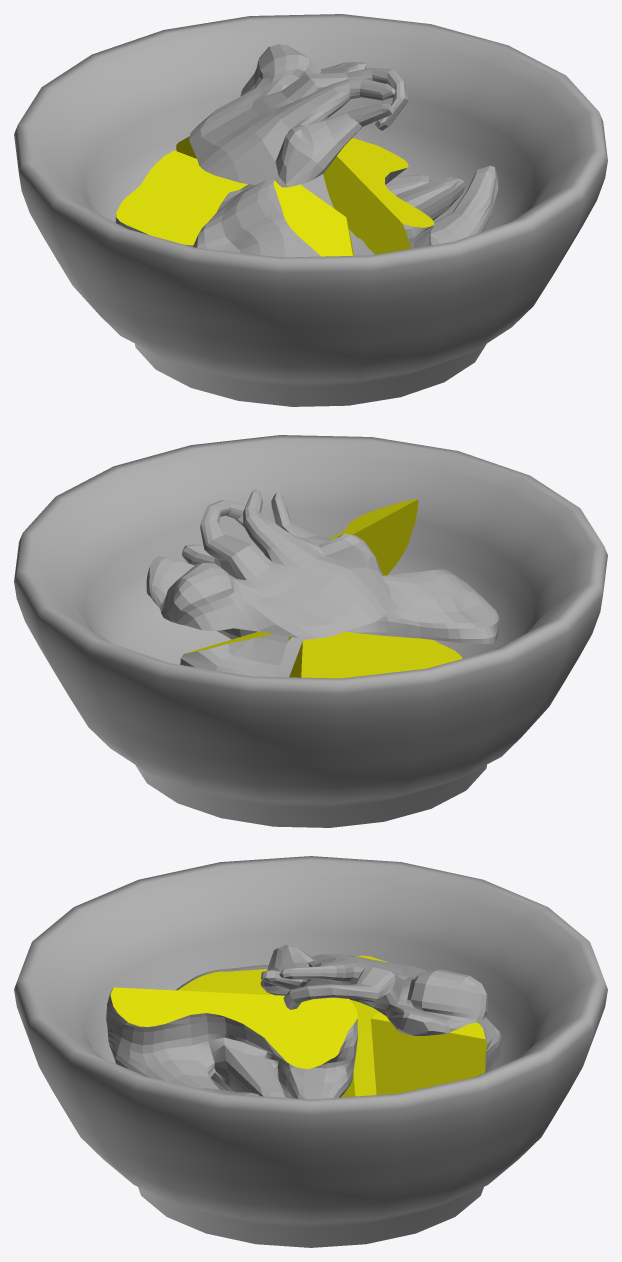
File: CutHeartInBowl.fbx
3 views of the same model, one above another, from view 1: azimuth 30°, elevation 25°; view 2: azimuth 150°, elevation 25°; view 3: azimuth 270°, elevation 25° (orthographic).
Parts seen in each view (by area): view 1: cuenco, shard10, shard5, shard9, shard6; view 2: cuenco, shard10, shard9, shard6, shard5, shard8; view 3: cuenco, shard5, shard10, shard8, shard6, shard9.
Boxes of the visible parts, x1,y1,x2,y2 form: cuenco: (14,14,607,406); shard10: (189,44,407,187); shard5: (323,138,498,254); shard9: (193,180,353,257); shard6: (115,150,247,246); cuenco: (14,435,607,827); shard10: (146,489,390,638); shard9: (346,569,499,643); shard6: (289,631,462,678); shard5: (182,499,418,640); shard8: (180,631,288,676); cuenco: (14,856,607,1247); shard5: (106,987,358,1099); shard10: (260,944,487,1035); shard8: (371,1012,501,1094); shard6: (335,955,387,1097); shard9: (175,965,334,997).
Bounding box in the file's own units: 44.38 × 19.69 × 44.38.
